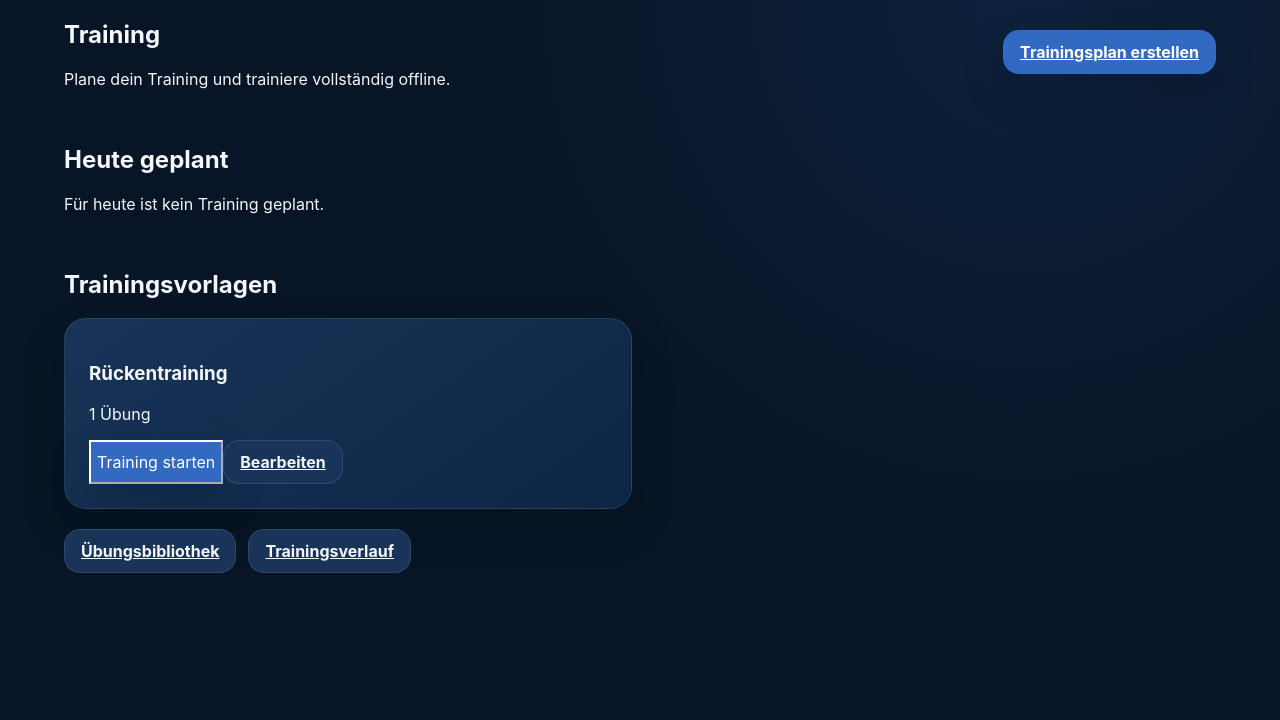
Scenario: ActiveWorkoutPage › prefills the active page from completed history when the provider starts a template
Expected: the heading "Training" is shown, [64, 20, 160, 49]
Click the button with aria-label "Training starten: Rückentraining".
click(156, 462)  # box [89, 440, 223, 484]
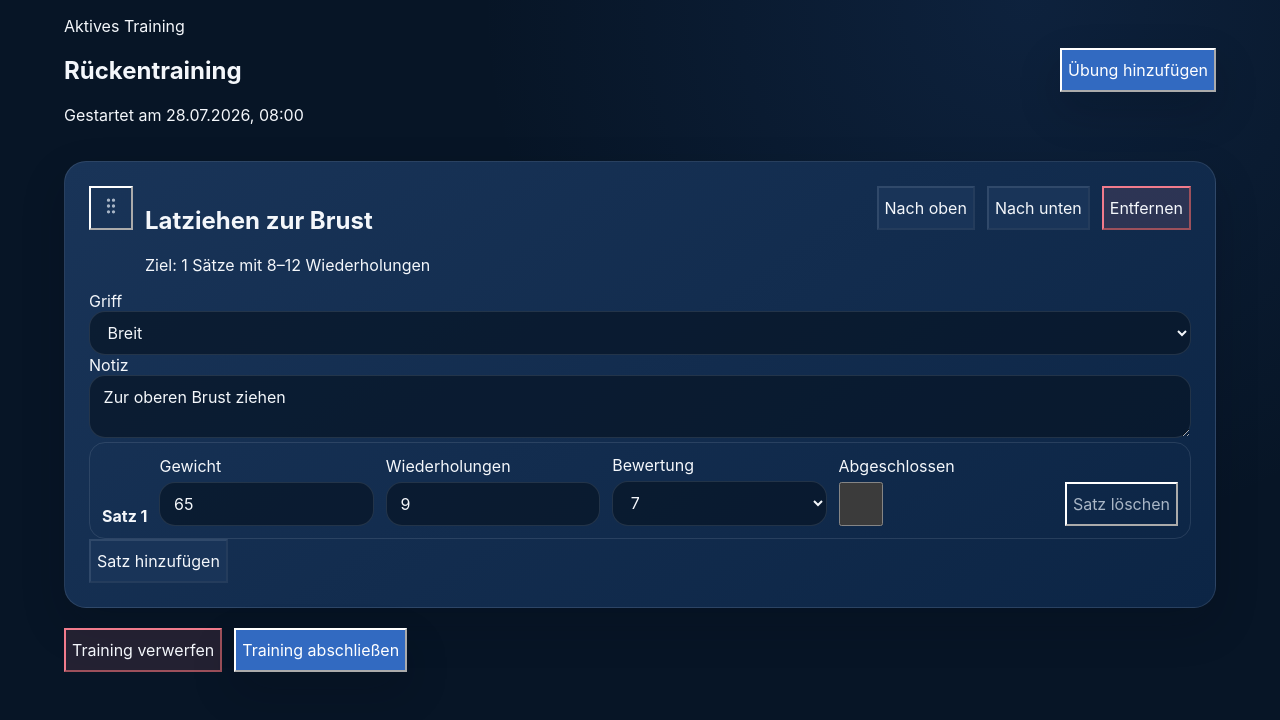
Expected: the number field named "Satz 1 Gewicht" holds "65", [160, 482, 374, 526]
Expected: the number field named "Satz 1 Wiederholungen" holds "9", [386, 482, 600, 526]
Expected: the dropdown named "Satz 1 Bewertung" shows "7", [612, 481, 826, 526]
